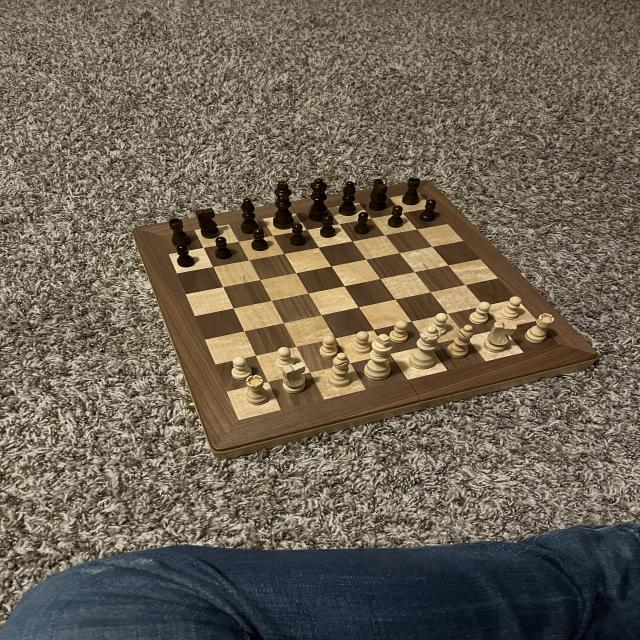bishop: (238, 196, 260, 236), (338, 179, 360, 218)
black-bishop: (270, 179, 296, 231)
black-king: (196, 208, 224, 238), (368, 177, 391, 213)
black-knight: (288, 220, 310, 248), (213, 234, 234, 262), (418, 198, 440, 224), (318, 213, 339, 240), (175, 243, 197, 268), (353, 212, 374, 237), (250, 226, 270, 252), (387, 203, 405, 230)
black-pawn: (306, 176, 332, 224)
black-queen: (167, 218, 195, 248), (400, 178, 425, 205)
black-rook: (445, 323, 474, 361), (326, 352, 354, 390)
white-bishop: (362, 332, 396, 382)
white-king: (482, 320, 518, 354), (279, 360, 309, 396)
white-knight: (499, 296, 524, 322), (229, 354, 253, 380), (388, 320, 413, 344), (468, 300, 492, 325), (275, 345, 297, 371), (352, 329, 373, 355), (319, 334, 340, 359), (428, 310, 448, 336)
white-pawn: (407, 321, 442, 371)
white-queen: (522, 312, 557, 346), (242, 374, 271, 406)
